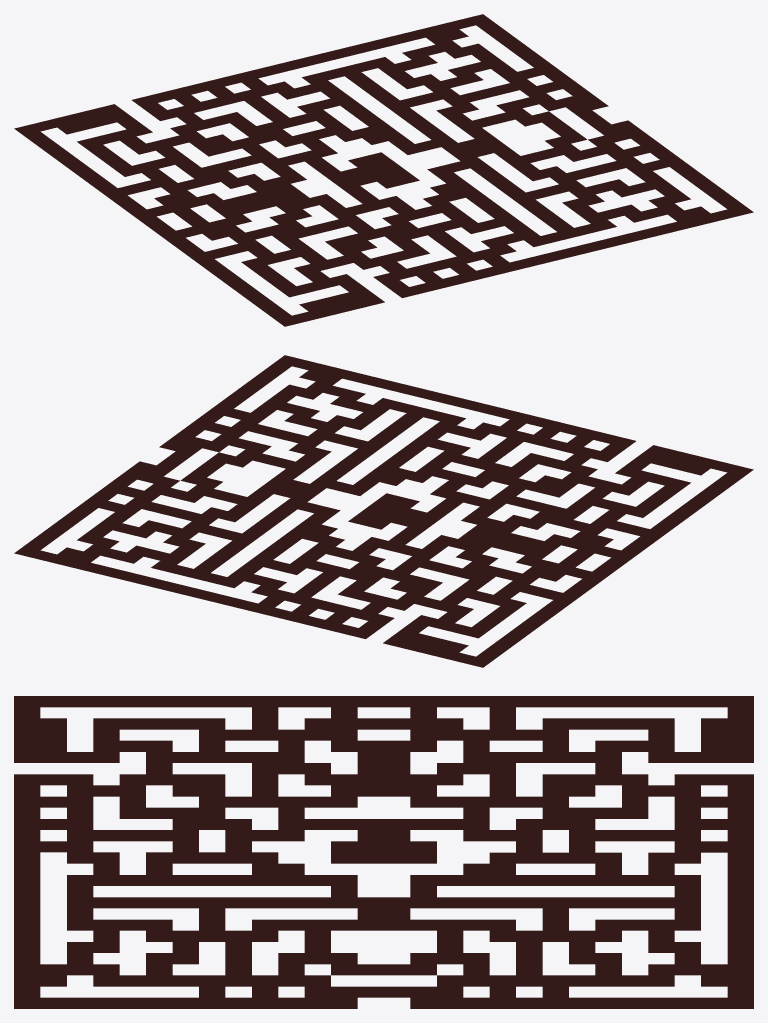
The model's file is Floor.fbx.
3 renders of one model, top to bottom at view 1: azimuth 30°, elevation 25°; view 2: azimuth 150°, elevation 25°; view 3: azimuth 270°, elevation 25°, orthographic. The views are drawn at different scales.
Parts seen in each view (by area): view 1: Floor; view 2: Floor; view 3: Floor.
Boxes of the visible parts, bbox=[...] form: Floor: bbox=[14, 14, 753, 326]; Floor: bbox=[14, 355, 753, 667]; Floor: bbox=[14, 696, 753, 1008].
Size of the model in its own units: 467 by 7.6e-05 by 467.
